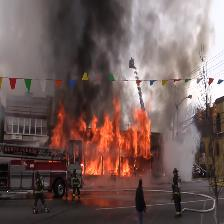fire: (55, 121, 153, 175)
smoke: (56, 5, 120, 108), (163, 130, 198, 180)
